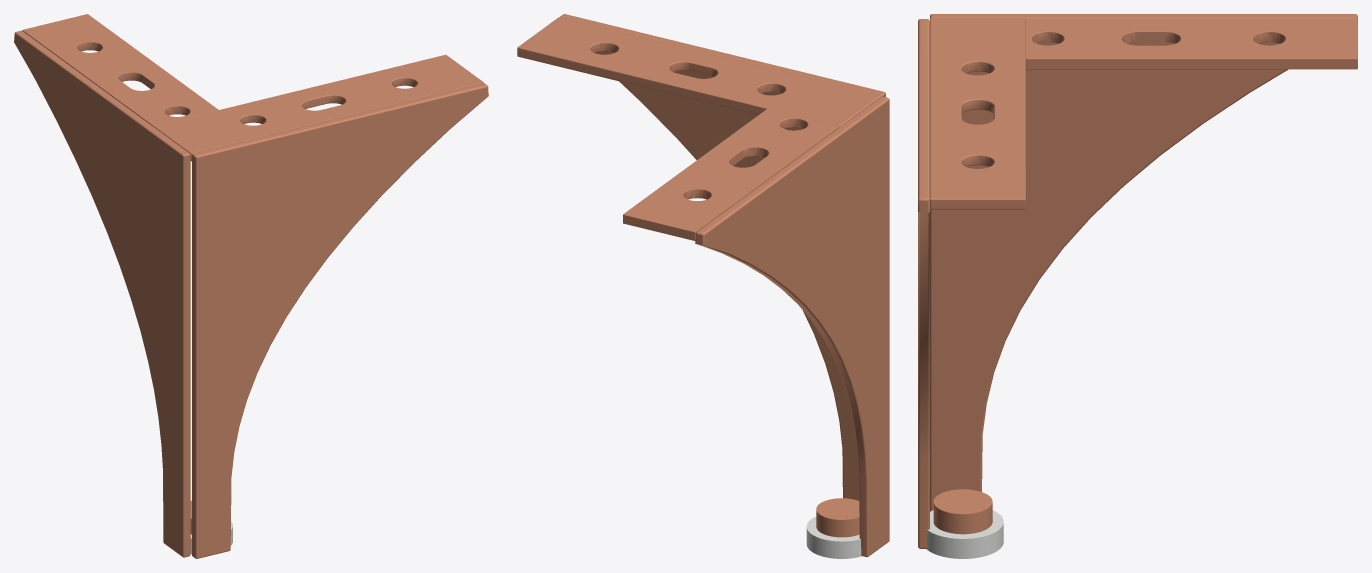
File: sofa-legs-1237.glb
3 renders of one model, left to right at view 1: azimuth 30°, elevation 25°; view 2: azimuth 150°, elevation 25°; view 3: azimuth 270°, elevation 25°, orthographic. The views are drawn at different scales.
Parts seen in each view (by area): view 1: Wing 0, Wing 1, Flange 0, Flange 1; view 2: Wing 1, Flange 0, Flange 1, Wing 0, Foot; view 3: Wing 1, Flange 0, Flange 1, Wing 0, Foot.
Boxes of the visible parts, x1,y1,x2,y2 form: Wing 0: (192,83,488,558); Wing 1: (14,30,190,557); Flange 0: (153,54,483,161); Flange 1: (22,14,218,126); Wing 1: (695,96,889,557); Flange 0: (517,17,880,126); Flange 1: (623,108,839,240); Wing 0: (560,14,885,500); Foot: (806,498,861,558); Wing 1: (930,14,1357,511); Flange 0: (930,18,1025,209); Flange 1: (1026,18,1357,69); Wing 0: (918,19,929,548); Foot: (926,489,1003,558).
Bounding box in the file's own units: 0.0596 × 0.0762 × 0.0596.
